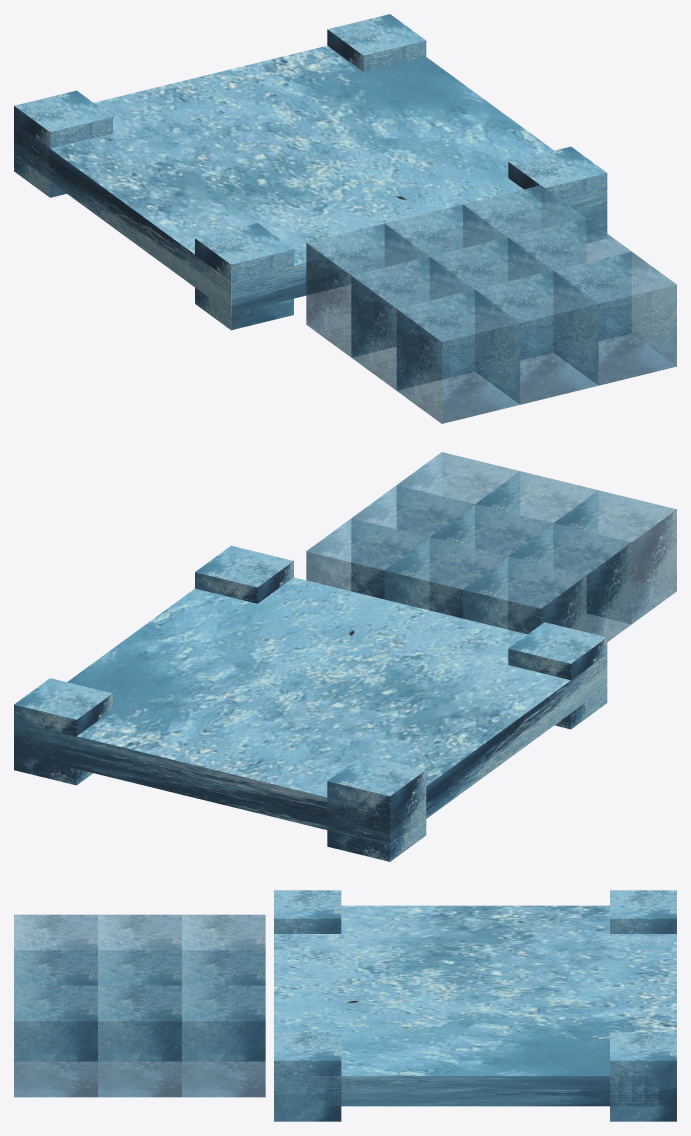
Rendered from GlassTowerAnime.glb.
3 views of the same model, one above another, from view 1: azimuth 30°, elevation 25°; view 2: azimuth 150°, elevation 25°; view 3: azimuth 270°, elevation 25° (orthographic). The views are drawn at different scales.
Visible parts, largest first — view 1: Cube.013, Cube.018, Cube.002, Cube, Cube.003, Cube.001, Cube.008, Cube.004, Cube.005, Cube.007, Cube.006, Cube.010 (+7 smaller); view 2: Cube.013, Cube.018, Cube.002, Cube.003, Cube.012, Cube.006, Cube.004, Cube.005, Cube.007, Cube.008, Cube, Cube.001 (+7 smaller); view 3: Cube.013, Cube.018, Cube.001, Cube.004, Cube.007, Cube, Cube.006, Cube.005, Cube.009, Cube.003, Cube.011, Cube.002 (+7 smaller).
Part boxes in pixels (x1=…): Cube.013: x1=14, y1=46, x2=607, y2=313; Cube.018: x1=14, y1=46, x2=606, y2=313; Cube.002: x1=396, y1=290, x2=520, y2=423; Cube: x1=475, y1=270, x2=598, y2=404; Cube.003: x1=351, y1=256, x2=474, y2=390; Cube.001: x1=553, y1=251, x2=676, y2=385; Cube.008: x1=306, y1=223, x2=429, y2=357; Cube.004: x1=508, y1=218, x2=631, y2=340; Cube.005: x1=430, y1=237, x2=552, y2=359; Cube.007: x1=463, y1=185, x2=586, y2=269; Cube.006: x1=385, y1=204, x2=507, y2=288; Cube.010: x1=195, y1=223, x2=293, y2=330; Cube.013: x1=14, y1=577, x2=605, y2=845; Cube.018: x1=14, y1=578, x2=603, y2=844; Cube.002: x1=553, y1=490, x2=676, y2=624; Cube.003: x1=508, y1=523, x2=631, y2=641; Cube.012: x1=327, y1=755, x2=426, y2=861; Cube.006: x1=384, y1=537, x2=507, y2=628; Cube.004: x1=351, y1=485, x2=474, y2=598; Cube.005: x1=430, y1=504, x2=552, y2=618; Cube.007: x1=306, y1=518, x2=429, y2=609; Cube.008: x1=463, y1=556, x2=586, y2=634; Cube: x1=475, y1=471, x2=598, y2=555; Cube.001: x1=397, y1=452, x2=519, y2=536; Cube.013: x1=274, y1=905, x2=676, y2=1106; Cube.018: x1=274, y1=906, x2=676, y2=1105; Cube.001: x1=14, y1=985, x2=97, y2=1097; Cube.004: x1=98, y1=985, x2=181, y2=1097; Cube.007: x1=182, y1=985, x2=265, y2=1097; Cube: x1=14, y1=950, x2=97, y2=1061; Cube.006: x1=182, y1=950, x2=265, y2=1061; Cube.005: x1=98, y1=950, x2=181, y2=1061; Cube.009: x1=274, y1=1032, x2=341, y2=1121; Cube.003: x1=98, y1=914, x2=181, y2=985; Cube.011: x1=610, y1=1032, x2=676, y2=1121; Cube.002: x1=14, y1=914, x2=97, y2=985.
Size of the model in its own units: 4.8 by 1 by 7.9.
9 materials, 9 textured.
